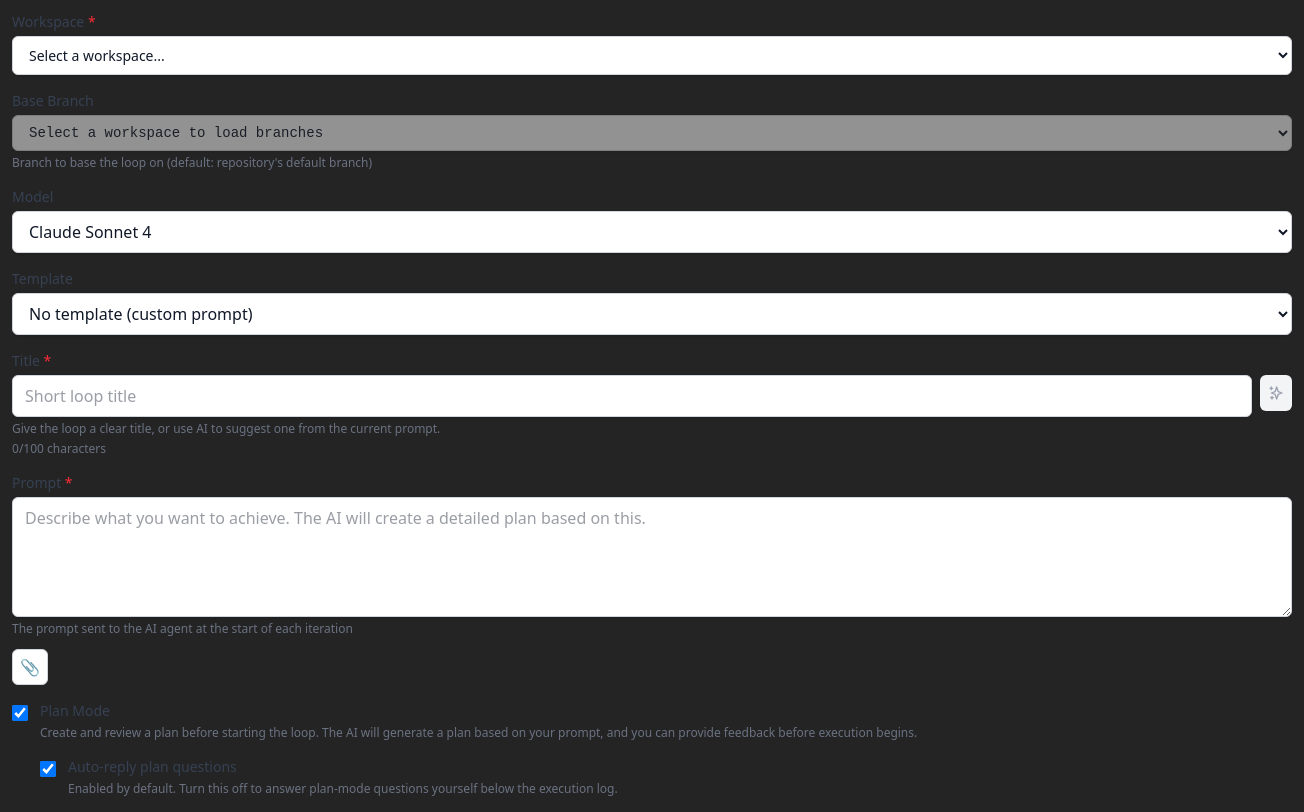
Test case: CreateLoopForm › plan mode toggle › toggling plan mode keeps the generic Create label in create mode
This screenshot has width=1304, height=812.
Toggle off
Click the checkbox labelled "Plan Mode" at (20, 713), box [12,705,28,721]
(page scrolled)
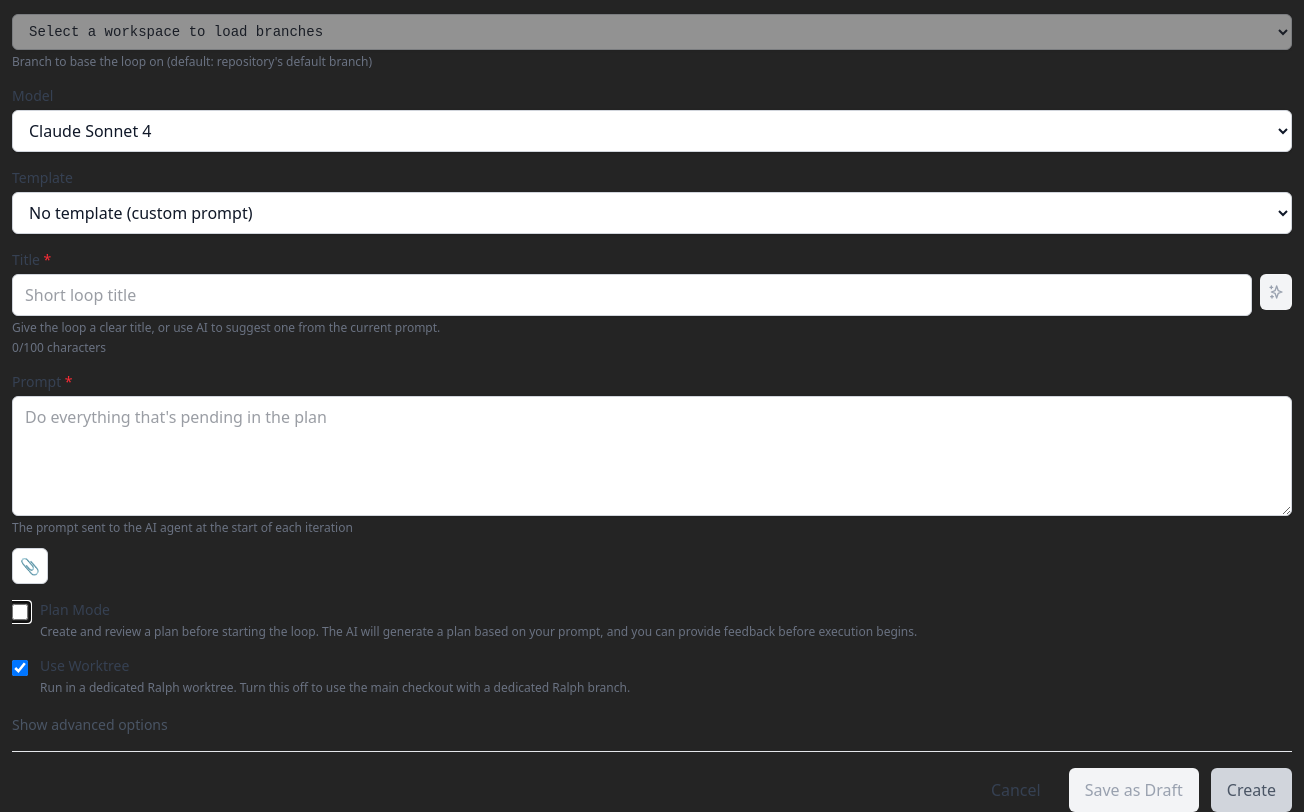
Now the button "Create" is shown, box [1211,768,1292,811]
